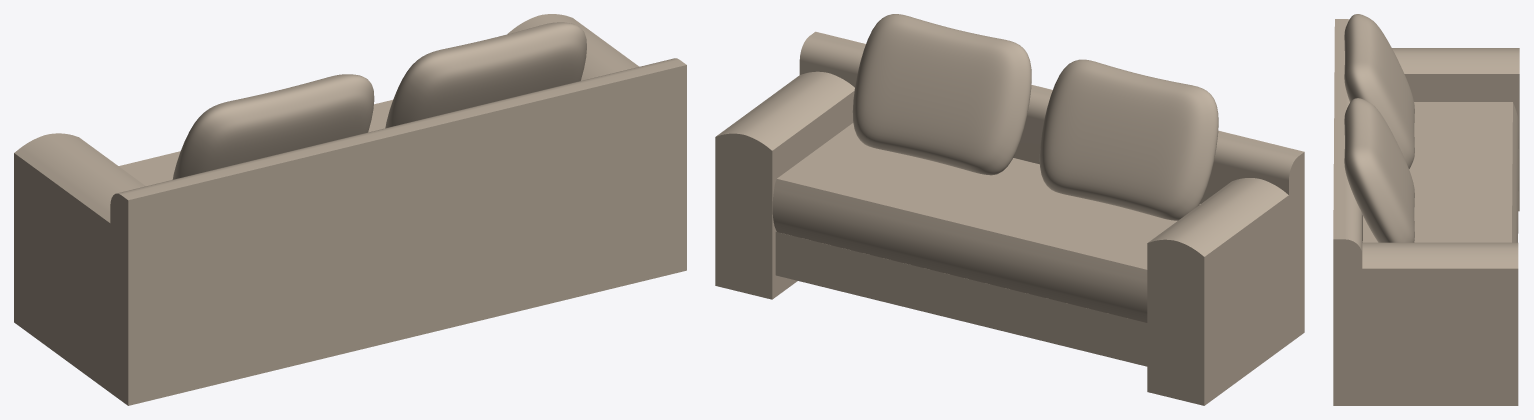
File: Canape1_4.fbx
3 views of the same model, side by side, from view 1: azimuth 30°, elevation 25°; view 2: azimuth 150°, elevation 25°; view 3: azimuth 270°, elevation 25° (orthographic). The views are drawn at different scales.
Parts seen in each view (by area): view 1: pCube1068, pCube2517, pCube2516, pCube2518; view 2: pCube1068, pCube2518, pCube2517, pCube2516, pCube2515; view 3: pCube1068, pCube2518, pCube2517, pCube2516.
Part boxes in pixels (x1,y1,x2,y2): pCube1068: (14,14,686,405); pCube2517: (385,22,586,128); pCube2516: (172,74,374,179); pCube2518: (119,100,392,186); pCube1068: (715,31,1304,405); pCube2518: (772,123,1200,322); pCube2517: (852,14,1031,175); pCube2516: (1039,59,1218,220); pCube2515: (775,231,1147,366); pCube1068: (1333,19,1519,405); pCube2518: (1362,102,1518,242); pCube2517: (1344,98,1414,242); pCube2516: (1344,14,1414,168).
Bounding box in the file's own units: 166 × 74.66 × 59.34.
